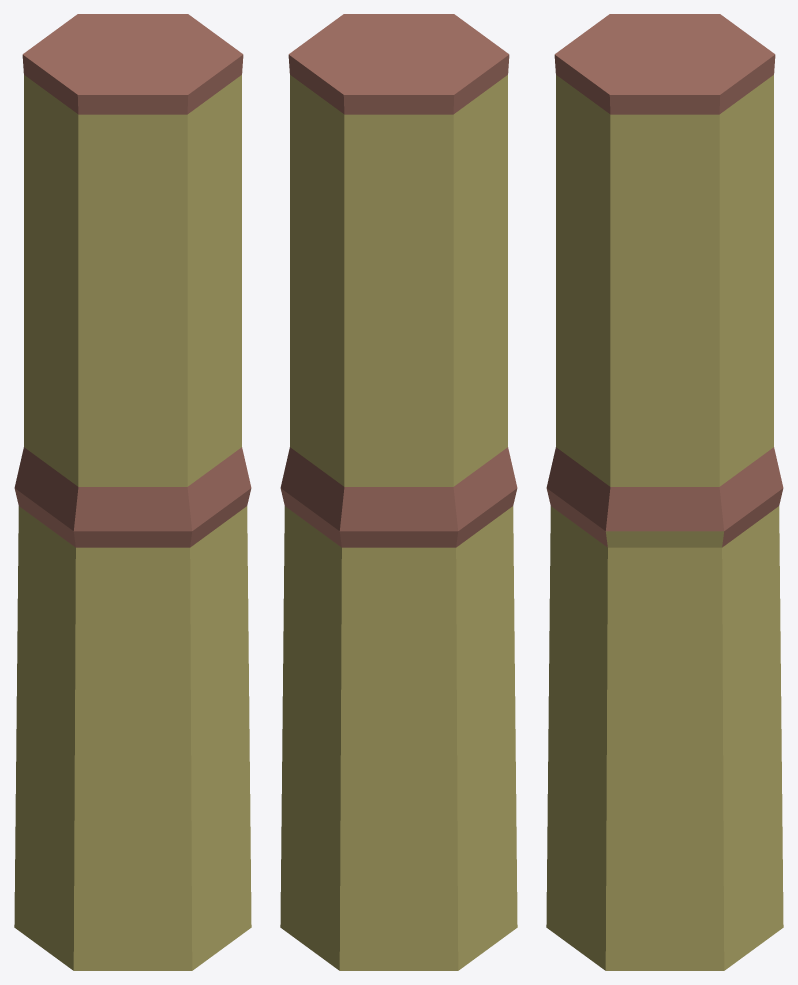
File: Misc_SugarCane_Stump.fbx
The picture shows the model from 3 angles, left to right: view 1: azimuth 30°, elevation 25°; view 2: azimuth 150°, elevation 25°; view 3: azimuth 270°, elevation 25°; orthographic projection.
Visible parts, largest first — view 1: Misc_SugarCane_Stump; view 2: Misc_SugarCane_Stump; view 3: Misc_SugarCane_Stump.
Boxes of the visible parts, x1=… form: Misc_SugarCane_Stump: x1=14, y1=14, x2=251, y2=970; Misc_SugarCane_Stump: x1=280, y1=14, x2=517, y2=970; Misc_SugarCane_Stump: x1=546, y1=14, x2=783, y2=970.
Size of the model in its own units: 10.88 by 51.07 by 12.57.
